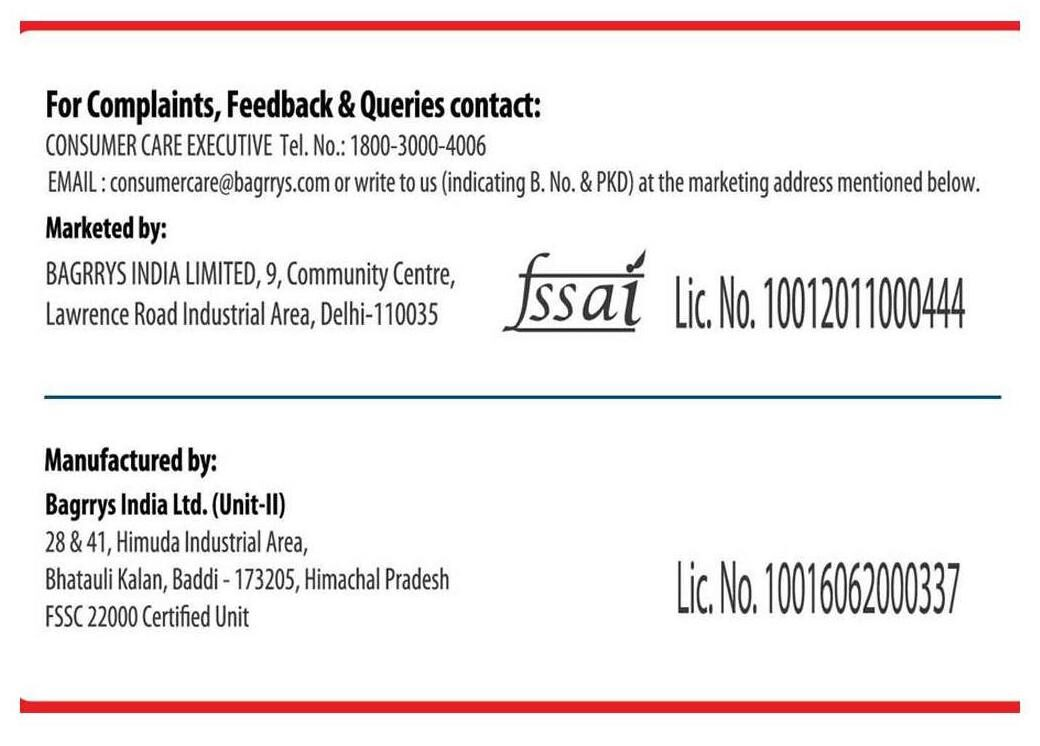fssai: (503, 250, 646, 332)
